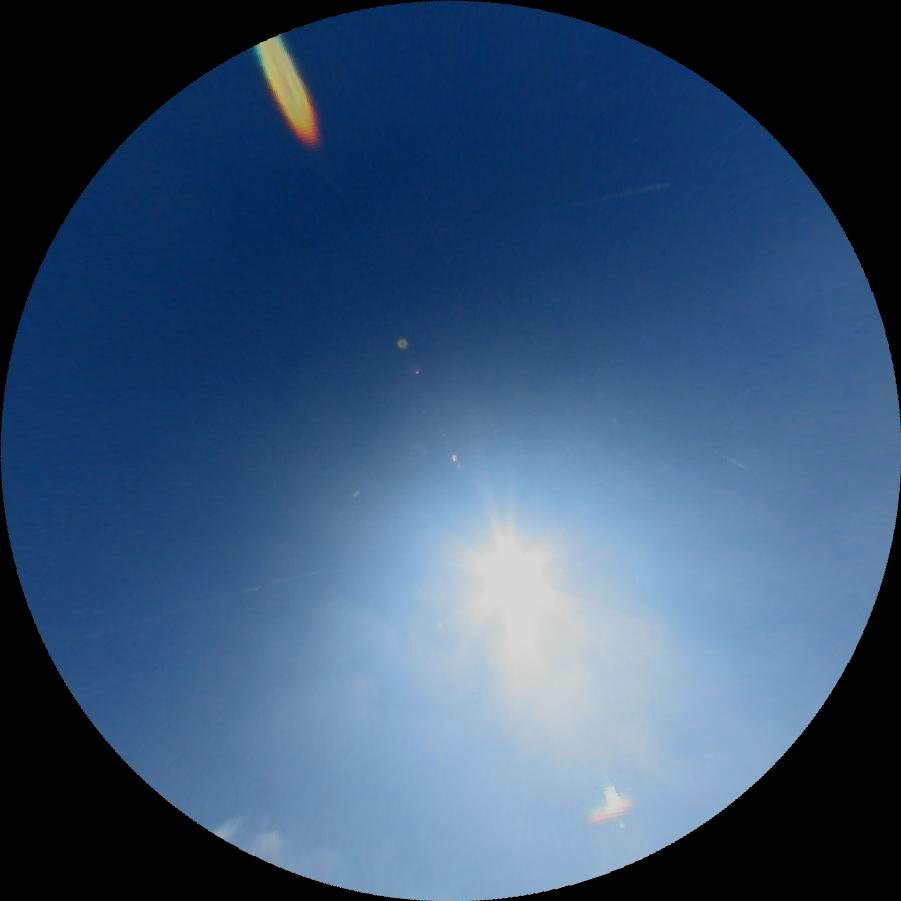contrail young: (554, 181, 669, 209), (303, 160, 341, 191), (704, 445, 747, 470)
parasite: (43, 563, 329, 650)
sun: (444, 514, 583, 654)
